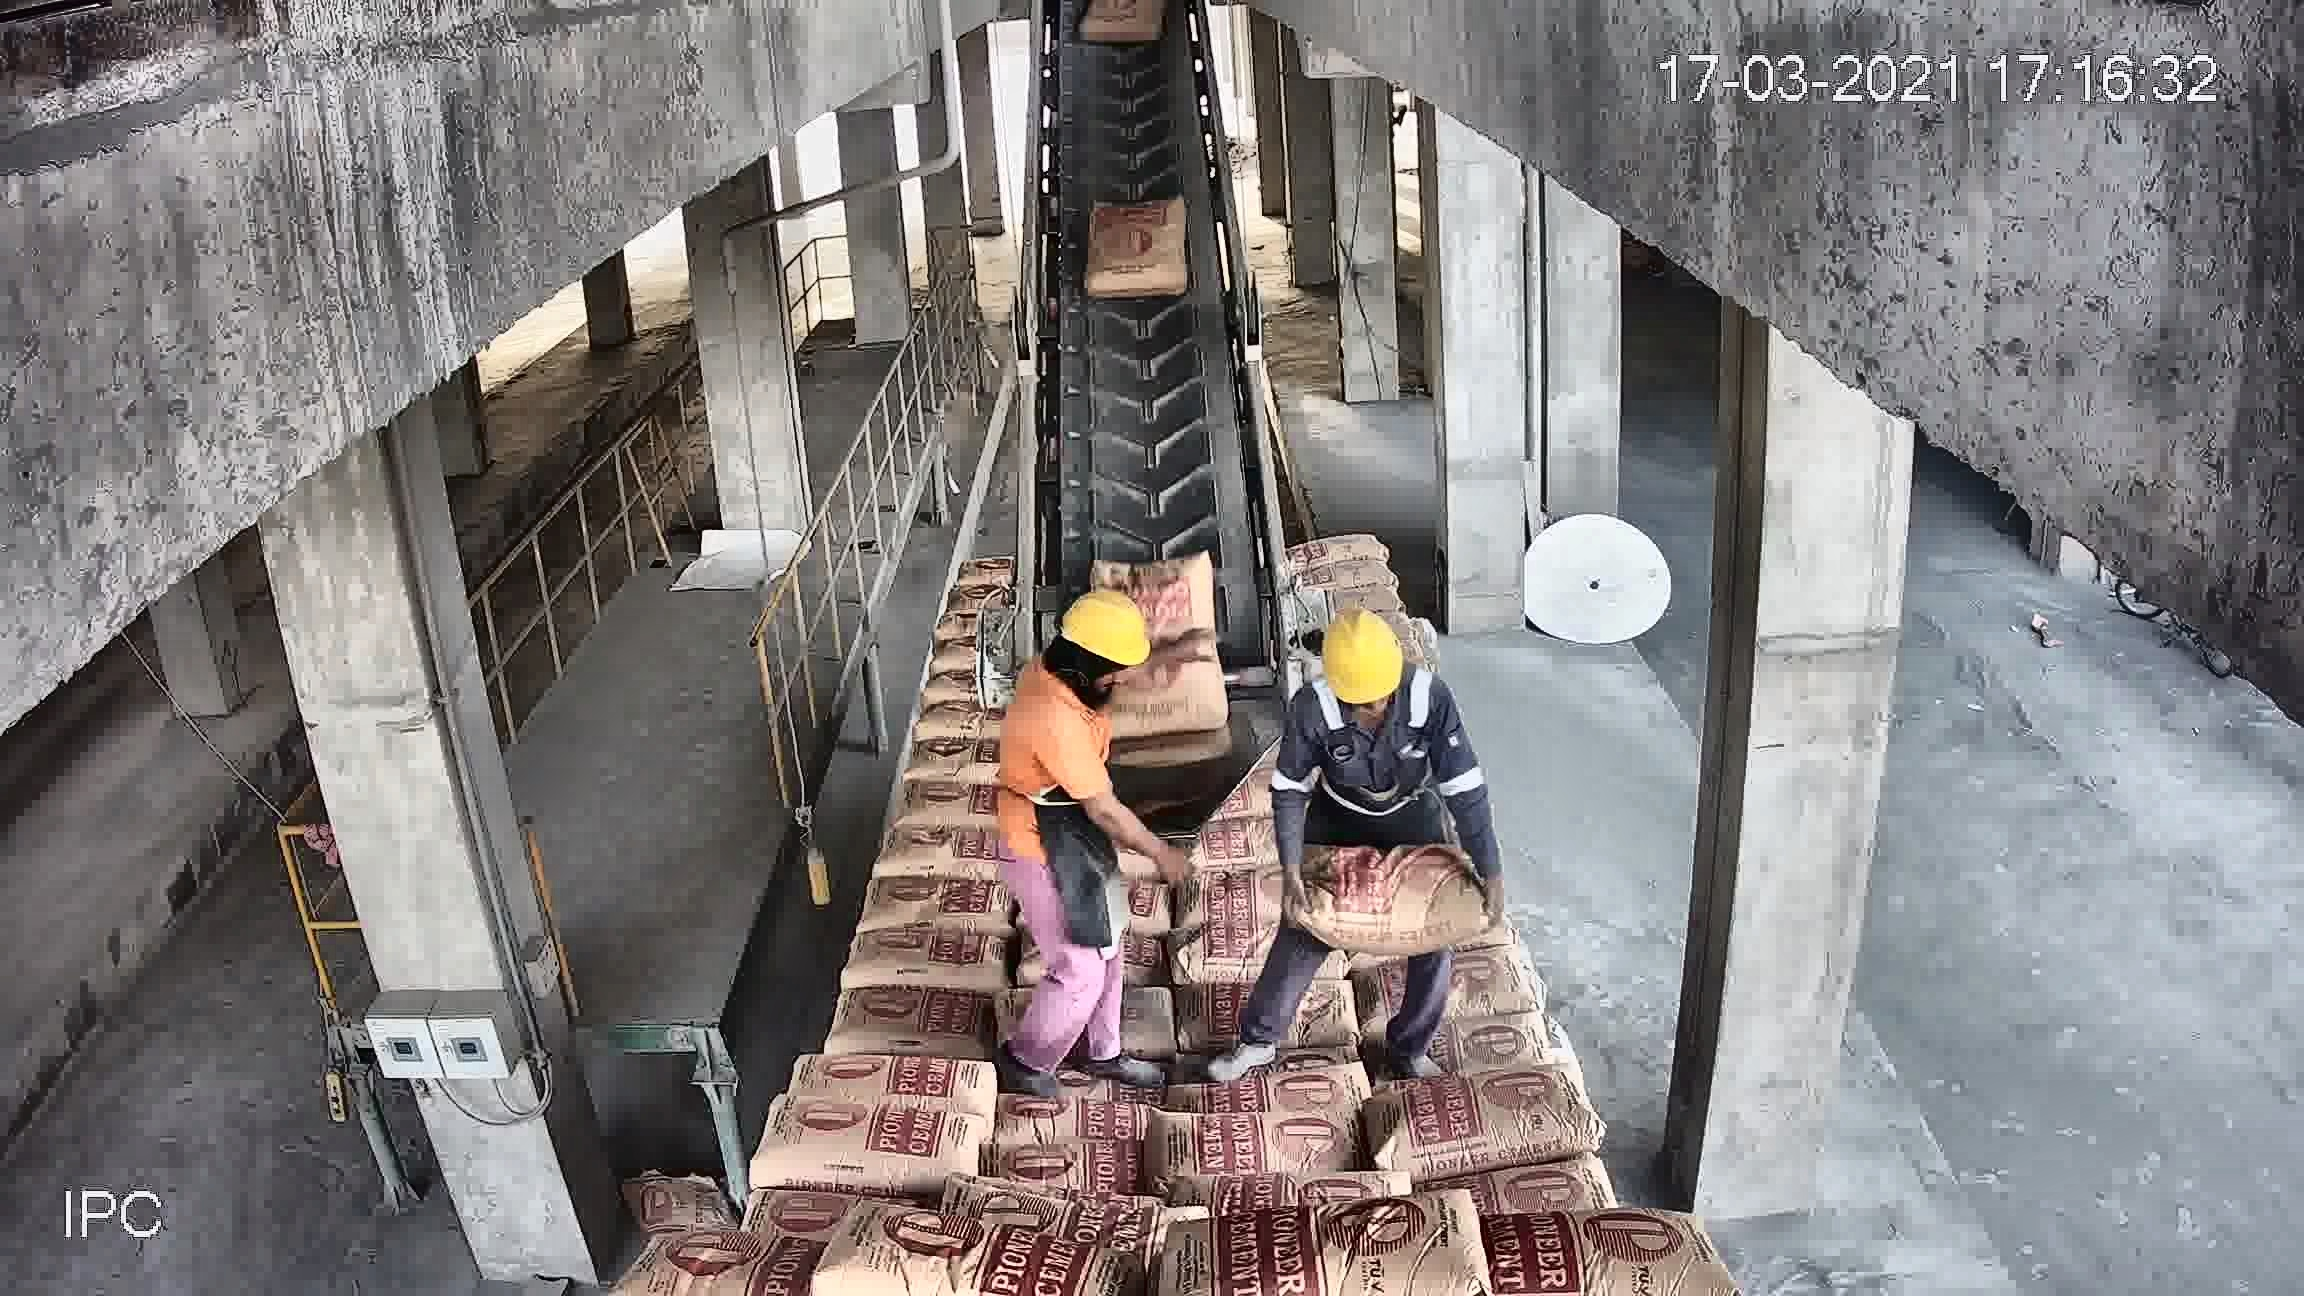bag: (1090, 196, 1188, 296)
bag_h: (1192, 1176, 1532, 1294), (1356, 1063, 1598, 1185), (794, 1215, 1135, 1296), (1432, 1203, 1700, 1296), (753, 1095, 999, 1192), (1149, 1095, 1375, 1190), (1347, 946, 1563, 1038), (1298, 843, 1483, 946), (1204, 1022, 1389, 1105), (638, 1230, 847, 1296), (834, 972, 987, 1052), (788, 1052, 1002, 1106), (1421, 1008, 1575, 1078), (834, 923, 1005, 984), (987, 1095, 1149, 1152), (991, 1138, 1144, 1188), (858, 870, 1000, 919), (880, 817, 1005, 870), (897, 725, 1002, 775), (1283, 533, 1397, 573), (897, 777, 999, 820), (1299, 557, 1400, 597)
bag_v: (1097, 554, 1228, 739)
belt: (1002, 46, 1287, 764)
